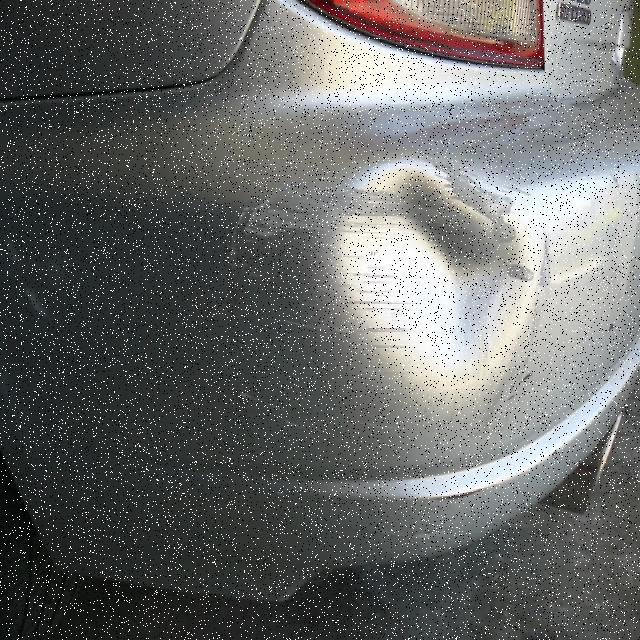rear-bumper-dent: (9, 89, 639, 638)
